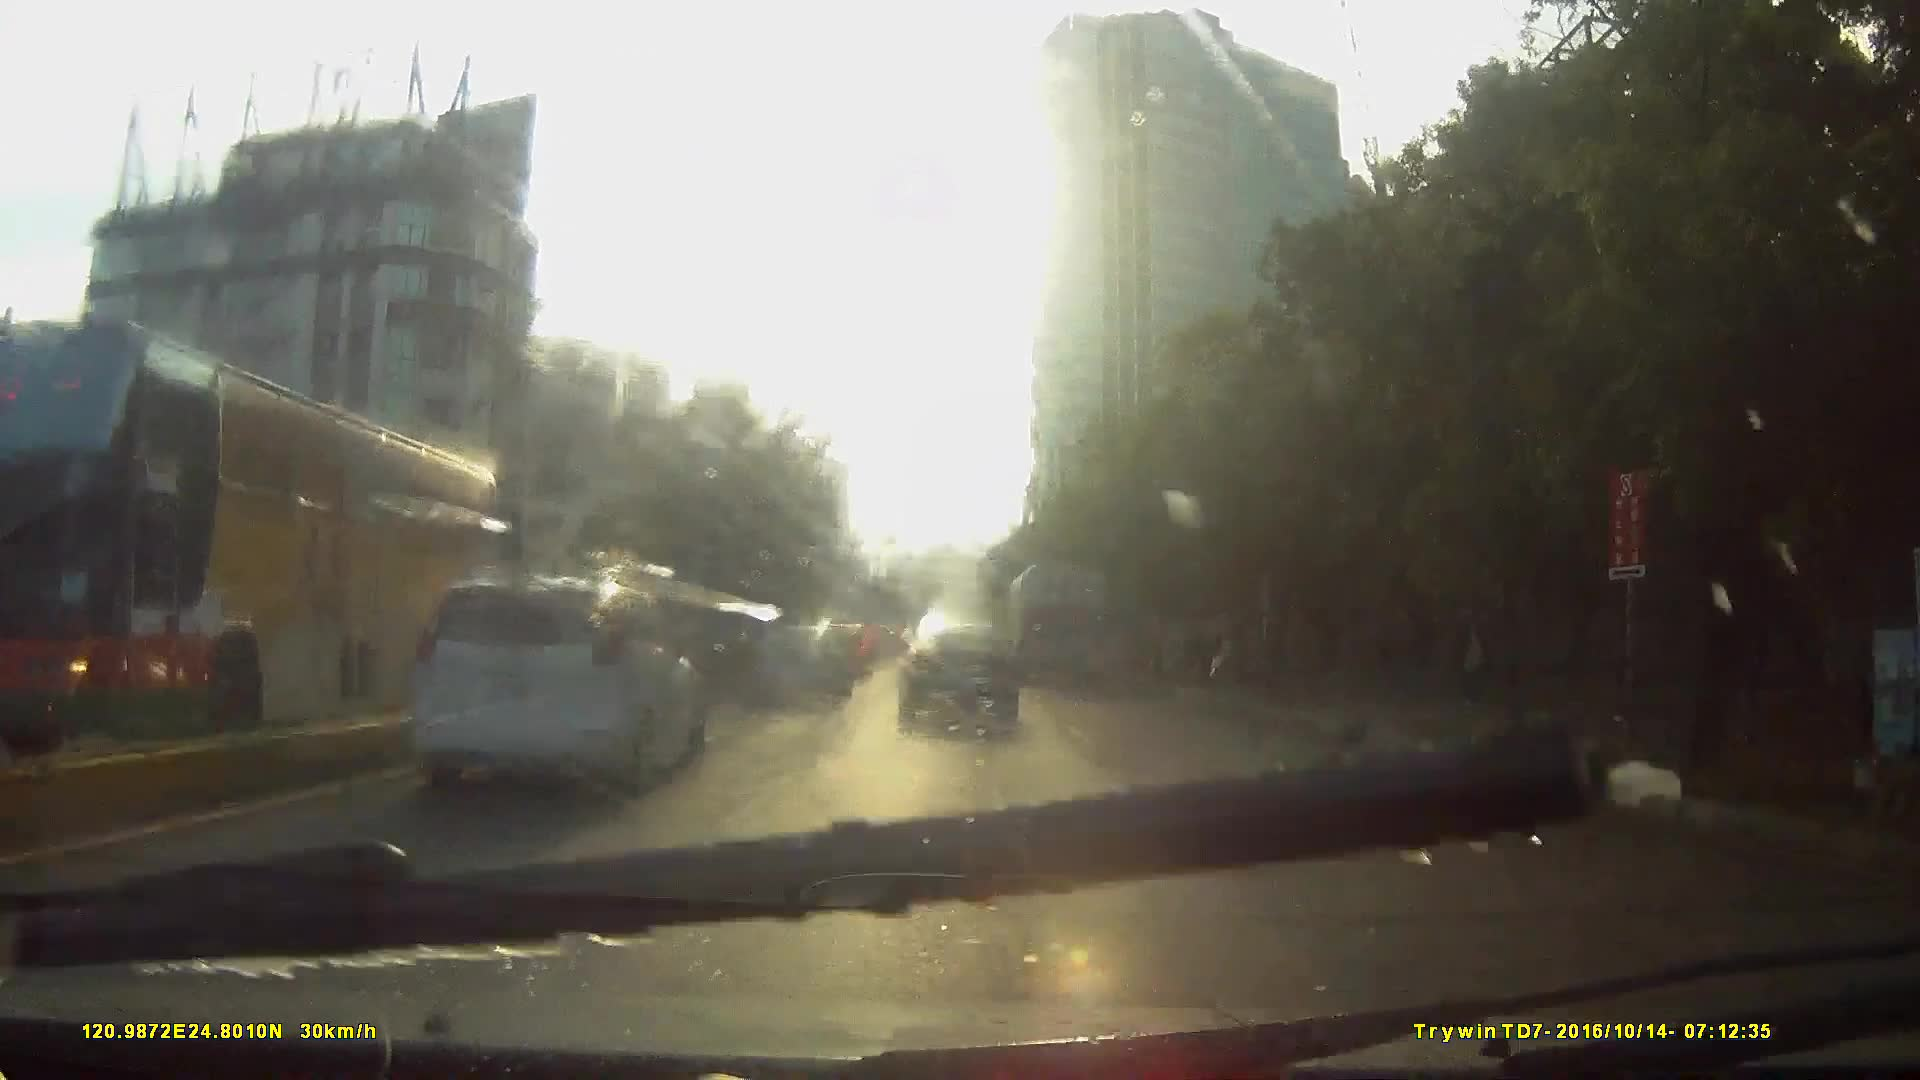vehicle: (1, 305, 516, 752), (251, 556, 684, 868), (404, 568, 703, 804), (893, 618, 1017, 731), (1007, 564, 1112, 690), (744, 622, 852, 709), (866, 638, 915, 687)
